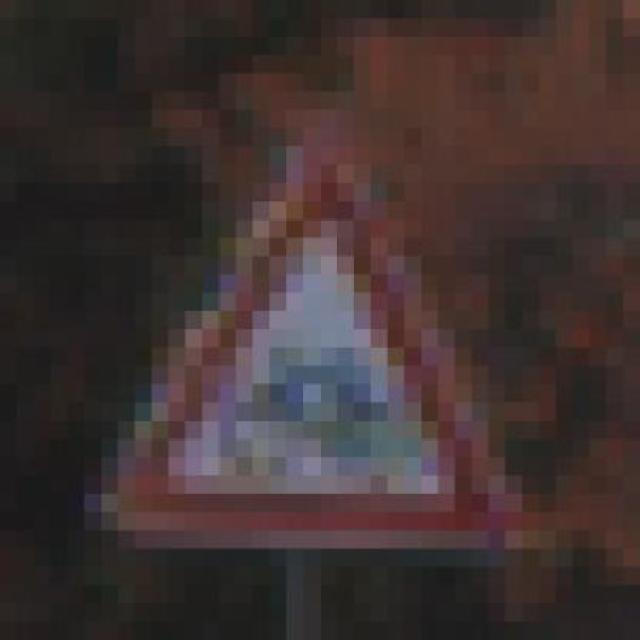CYCLE ROUTE AHEAD WARNING: (84, 146, 539, 568)
